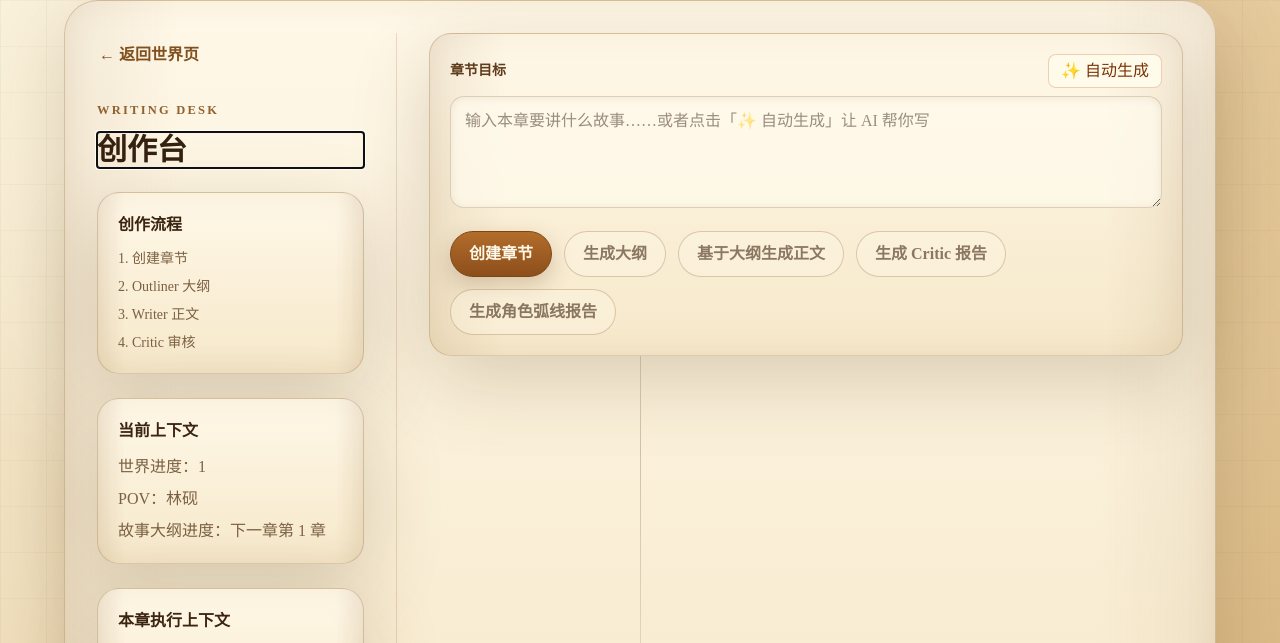
Test: StudioPage Review Studio 2.0 controls › renders version selector, stash, paragraph controls, diff, and approval preview after drafting
In the text box labelled "章节目标": (806, 152) top-left (450, 96), bottom-right (1162, 208), type "推进雨巷密谈"
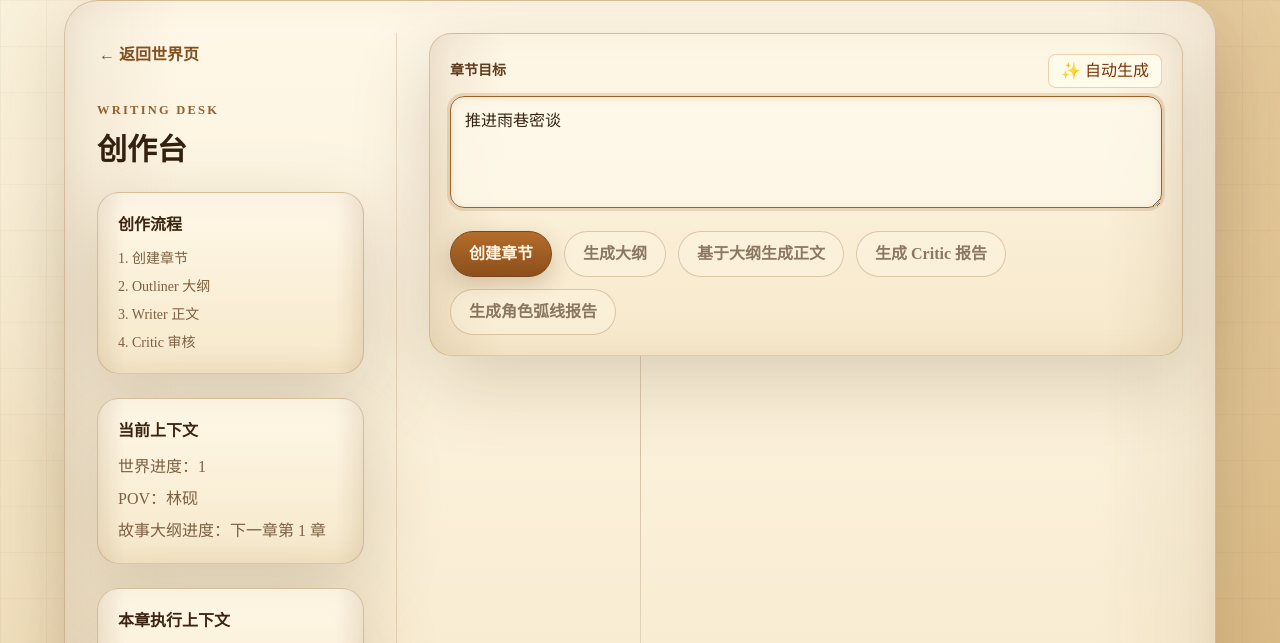
Click the button "创建章节": click(501, 254) top-left (450, 231), bottom-right (552, 277)
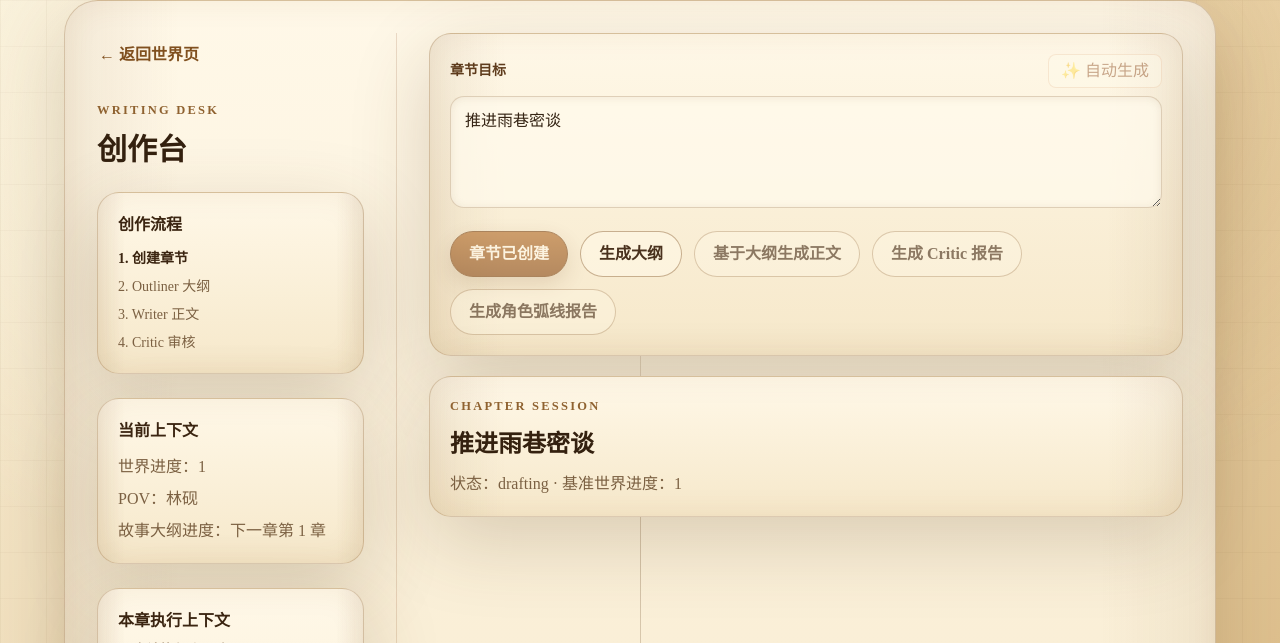
Click the button "生成大纲": click(631, 254) top-left (580, 231), bottom-right (682, 277)
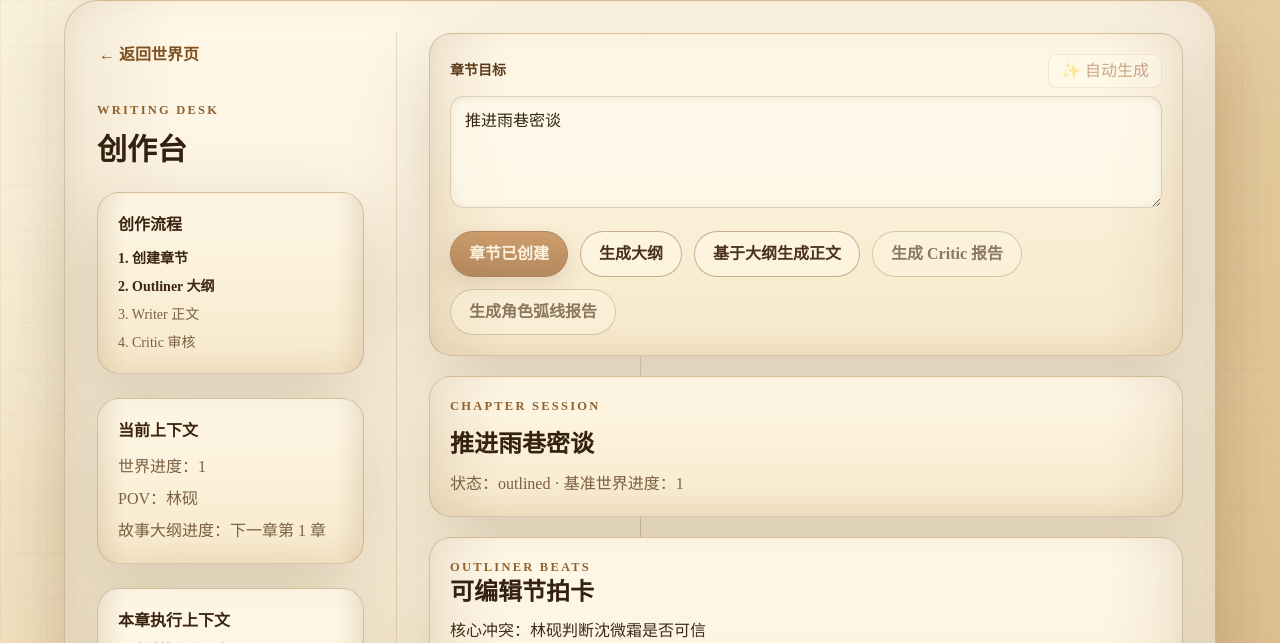
Click the button "基于大纲生成正文": click(777, 254) top-left (694, 231), bottom-right (860, 277)
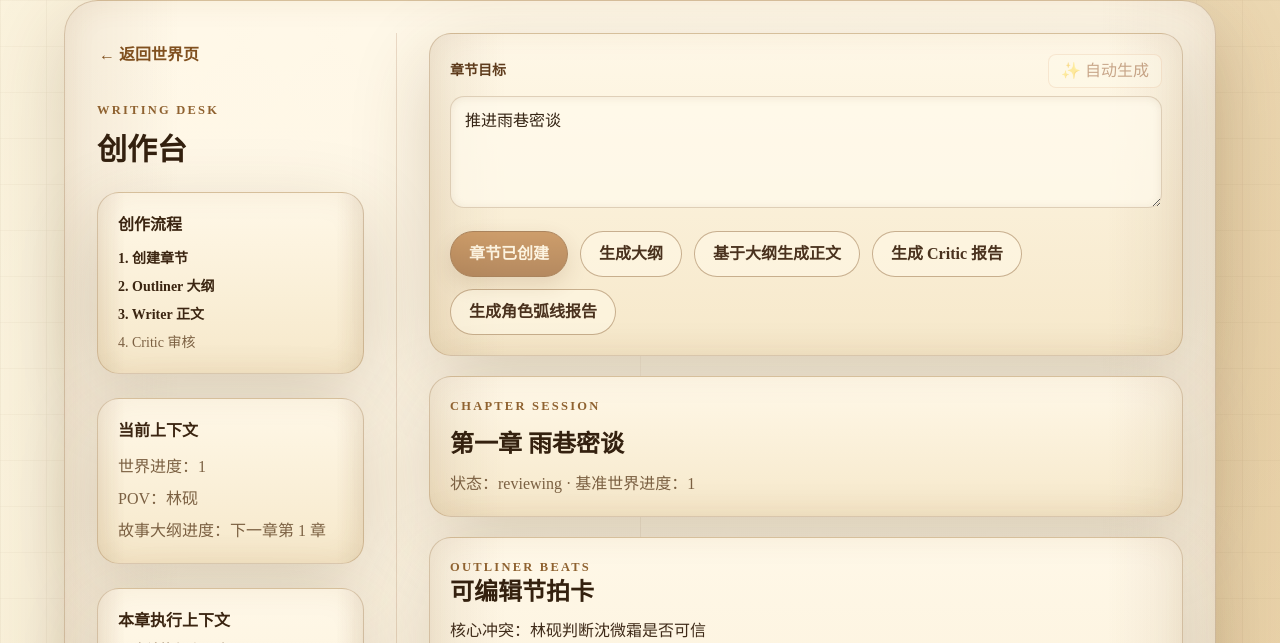
Click the button "生成 Critic 报告": click(947, 254) top-left (872, 231), bottom-right (1022, 277)
(page scrolled)
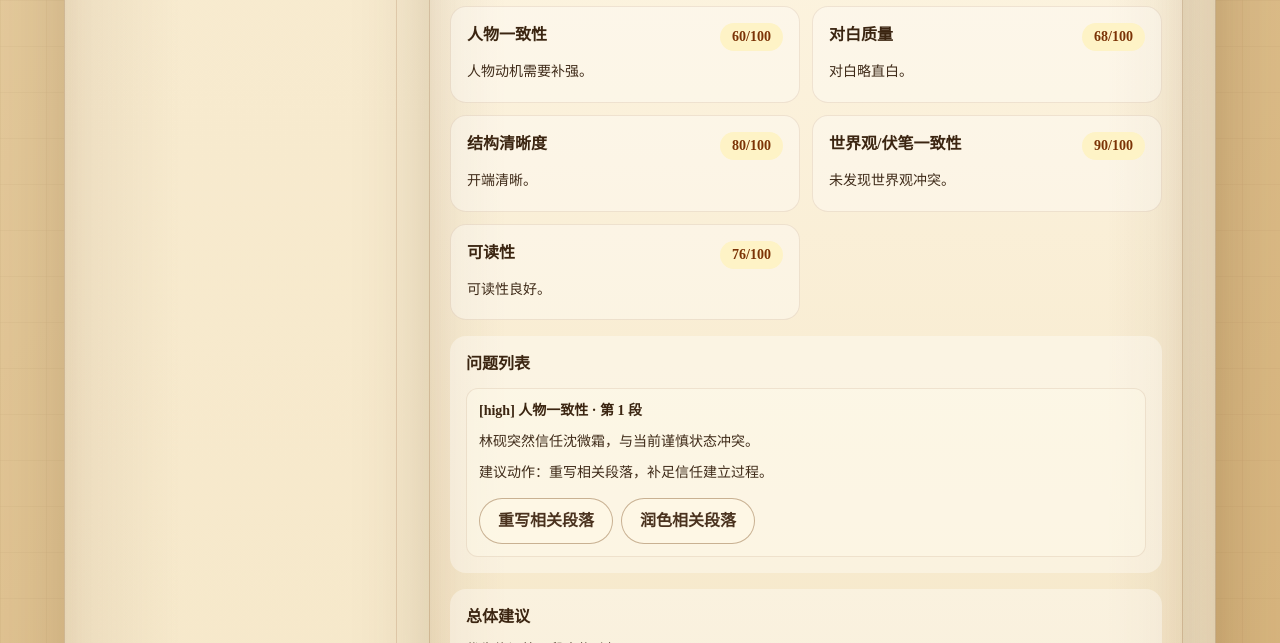
Check: the text "林砚突然信任沈微霜，与当前谨慎状态冲突。" is shown, box top-left (479, 434), bottom-right (759, 449)
